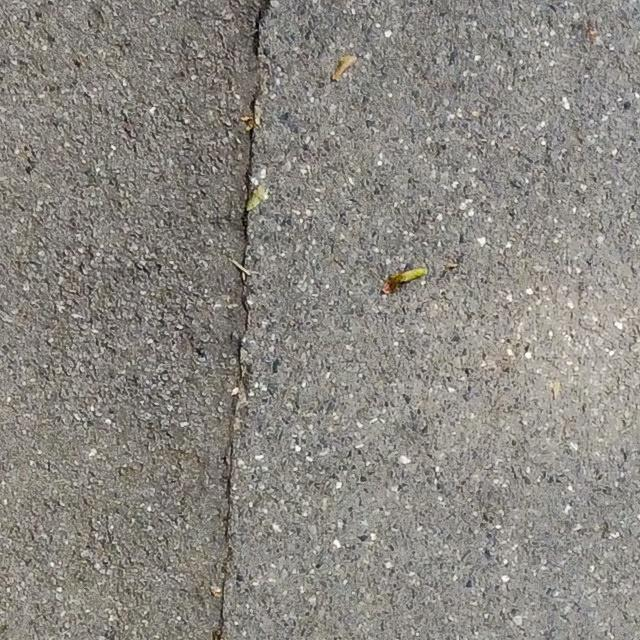LongitudinalCrack: (213, 1, 274, 639)
